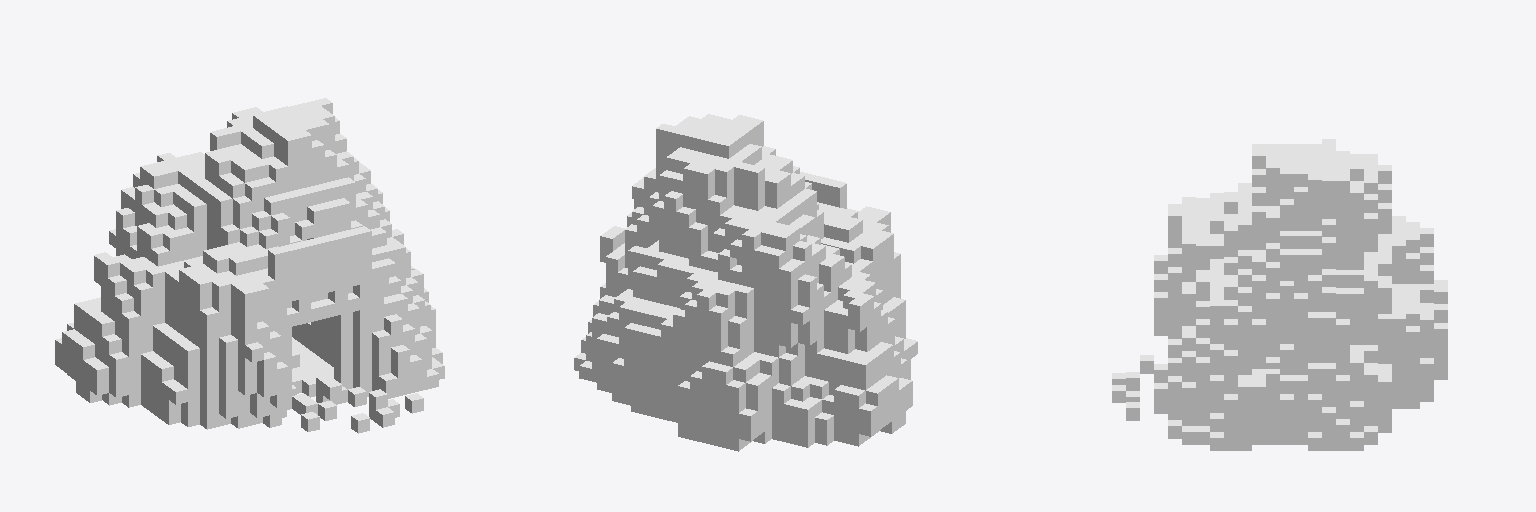
Rendered from cubeland1-21.obj.
3 renders of one model, left to right at view 1: azimuth 30°, elevation 25°; view 2: azimuth 150°, elevation 25°; view 3: azimuth 270°, elevation 25°, orthographic.
Parts seen in each view (by area): view 1: object 1; view 2: object 1; view 3: object 1.
Part boxes in pixels (x1,y1,x2,y2): object 1: (55,98,444,433); object 1: (574,114,917,451); object 1: (1112,139,1447,450).
Size of the model in its own units: 2.5 by 1.9 by 2.4.